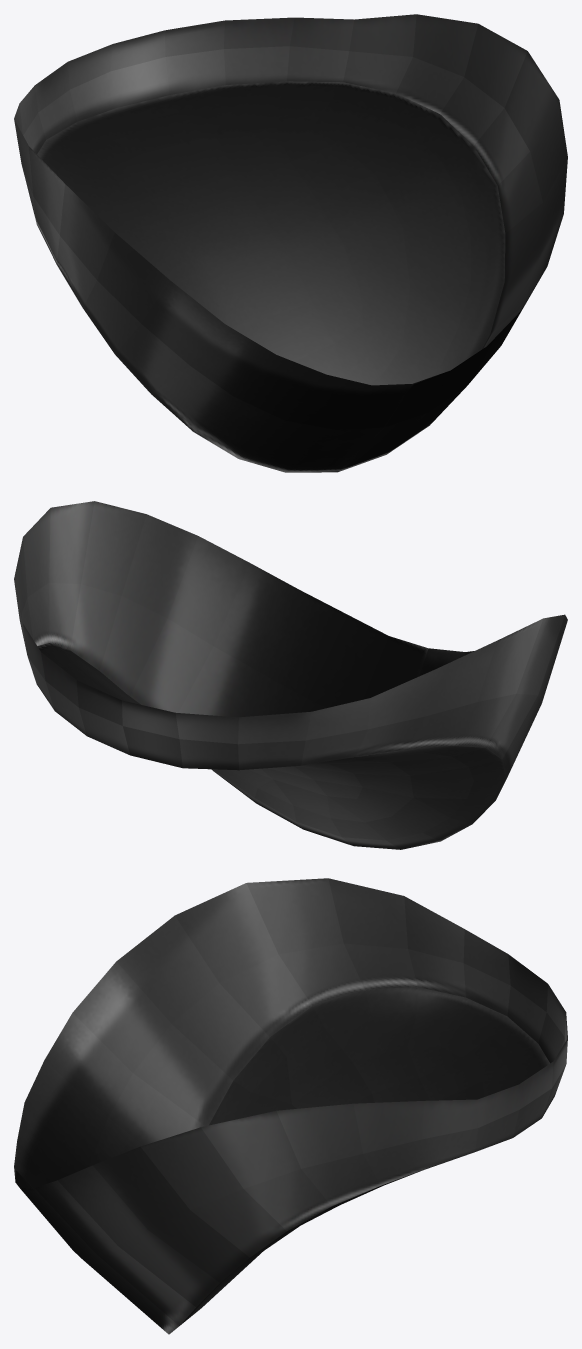
Rendered from pfd_mr_controller_left_trigger.obj.
3 views of the same model, one above another, from view 1: azimuth 30°, elevation 25°; view 2: azimuth 150°, elevation 25°; view 3: azimuth 270°, elevation 25° (orthographic).
Visible parts, largest first — view 1: pfd_mr_controller_left_trigger; view 2: pfd_mr_controller_left_trigger; view 3: pfd_mr_controller_left_trigger.
Boxes of the visible parts, x1,y1,x2,y2 form: pfd_mr_controller_left_trigger: (14, 14, 567, 472); pfd_mr_controller_left_trigger: (14, 501, 567, 849); pfd_mr_controller_left_trigger: (14, 878, 567, 1334).
Size of the model in its own units: 0.0308 by 0.0198 by 0.0309.
1 material, 1 textured.
